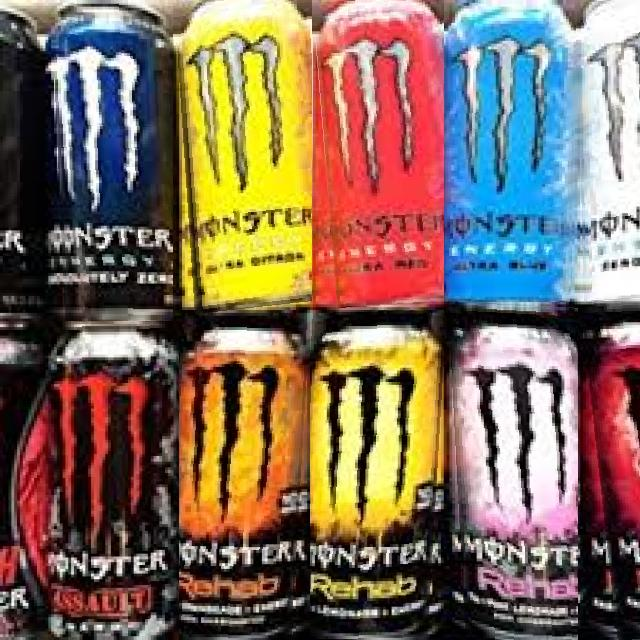Cans: (310, 310, 447, 640), (448, 301, 578, 640), (174, 0, 312, 314), (179, 320, 310, 640), (312, 0, 447, 308), (48, 324, 178, 640), (444, 0, 577, 302), (51, 0, 173, 321), (580, 301, 640, 640), (577, 0, 640, 302)
